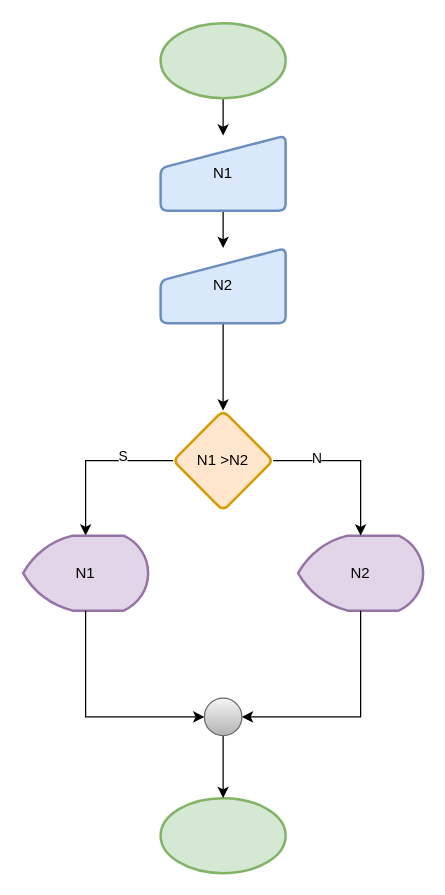
This 445x895 diagram has some shape labels left out. The centre of each missing label's shape, as x and y in pixels:
"FIM" goes at [222,835].
"INICIO" goes at [222,60].
